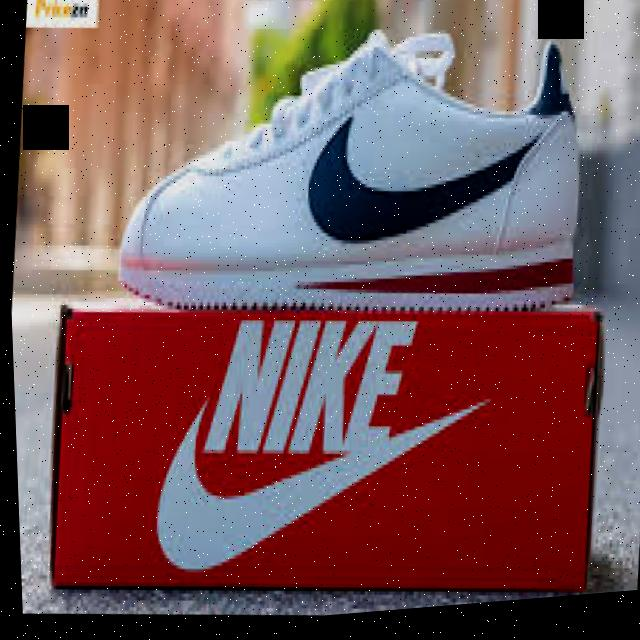shoes: (109, 0, 601, 353)
